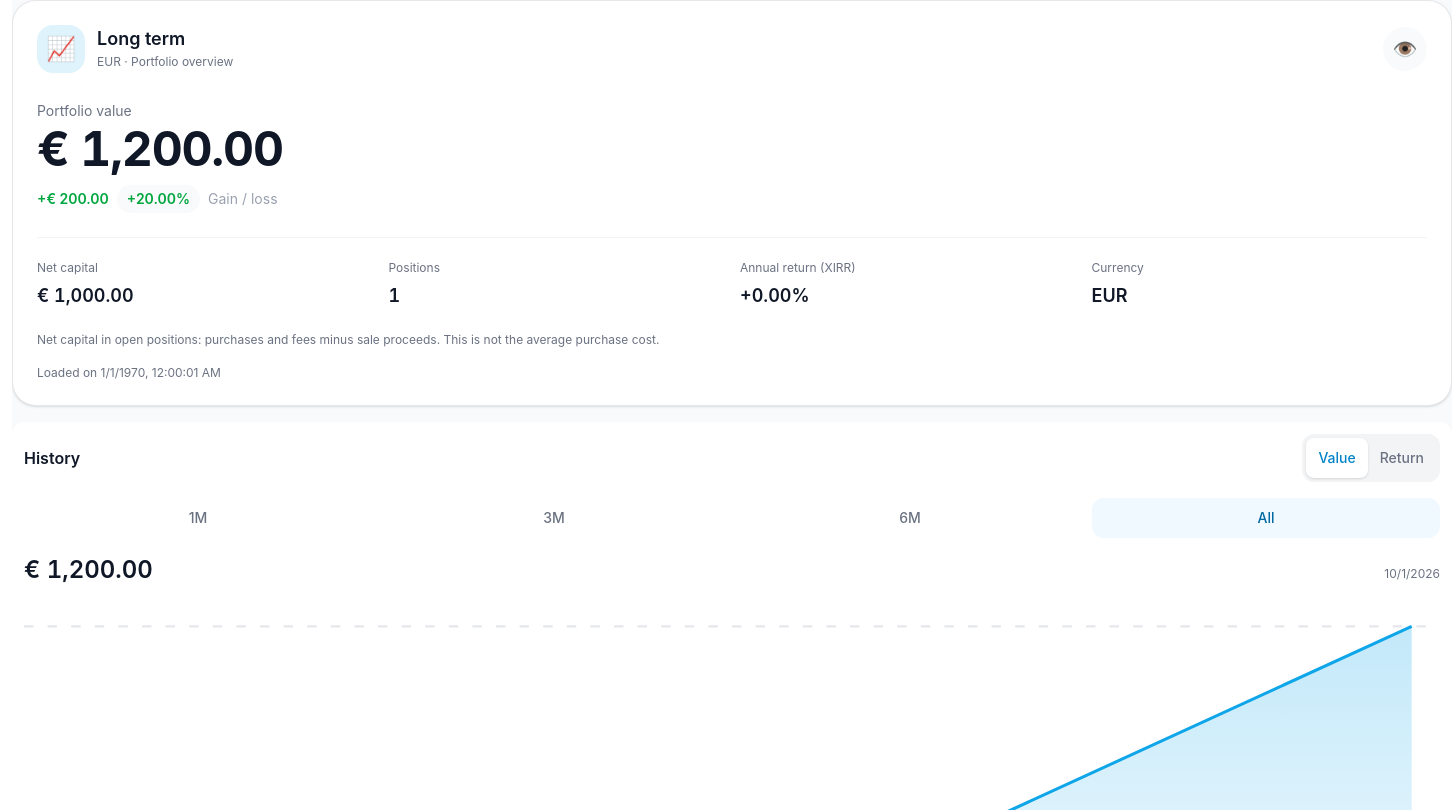
Test: portfolio overview › masks amounts and hides the chart when balances are hidden
Click the button named "Show or hide amounts": (1405, 49) [1383,27,1427,71]
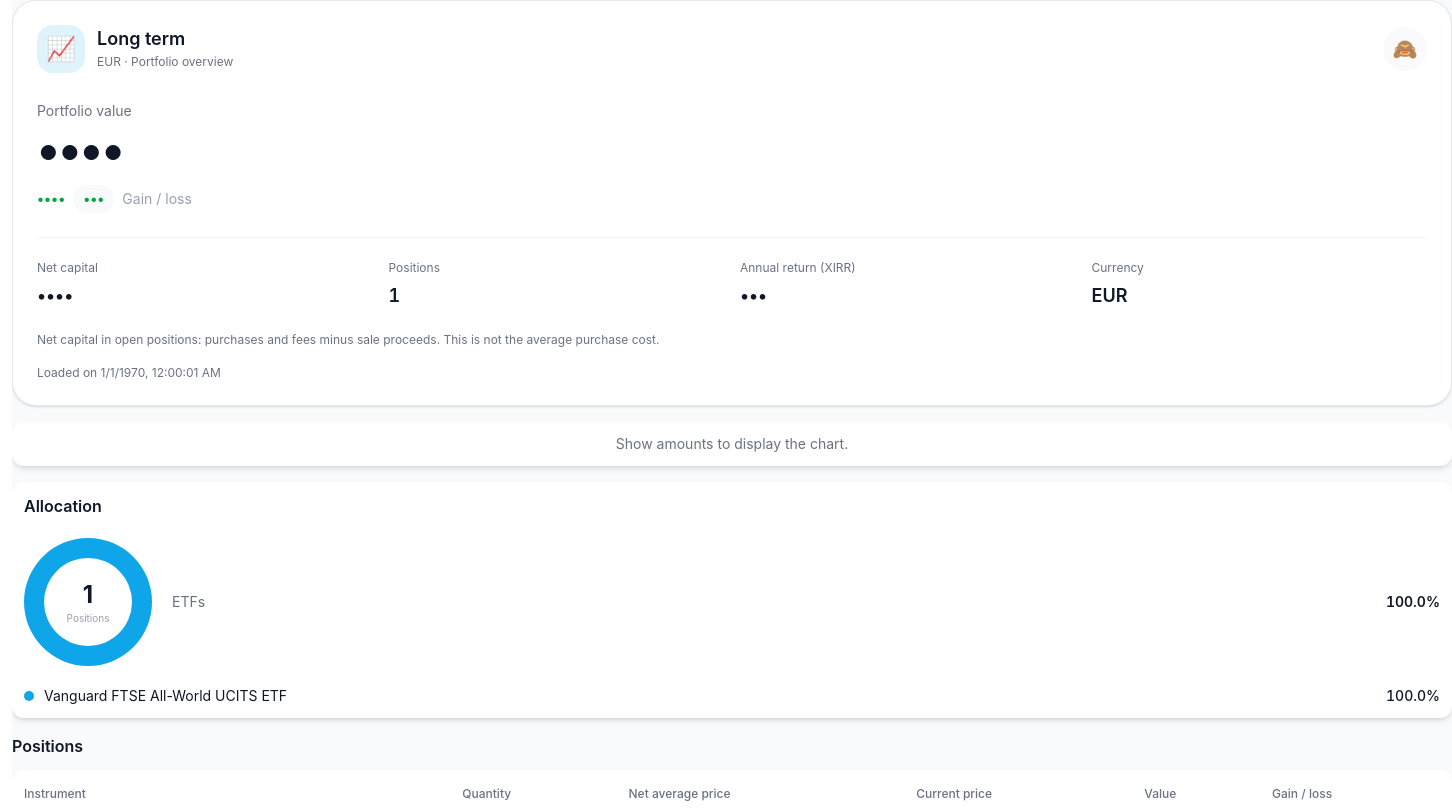
Expected: the text "€ 1,200.00" is not shown
